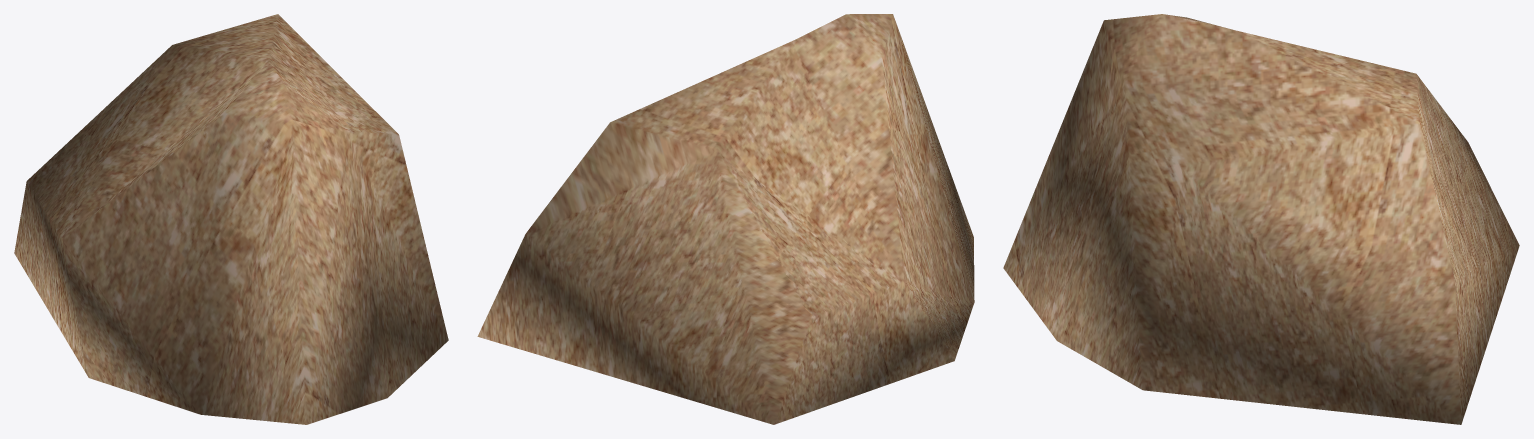
The model's file is rock_pebbleclump_a3_l1.fbx.
3 renders of one model, left to right at view 1: azimuth 30°, elevation 25°; view 2: azimuth 150°, elevation 25°; view 3: azimuth 270°, elevation 25°, orthographic. The views are drawn at different scales.
Visible parts, largest first — view 1: mesh_node; view 2: mesh_node; view 3: mesh_node.
Boxes of the visible parts, <box> form: mesh_node: <box>14,14,448,424</box>; mesh_node: <box>477,14,974,424</box>; mesh_node: <box>1003,14,1519,424</box>.
Bounding box in the file's own units: 0.2603 × 0.186 × 0.2898.
